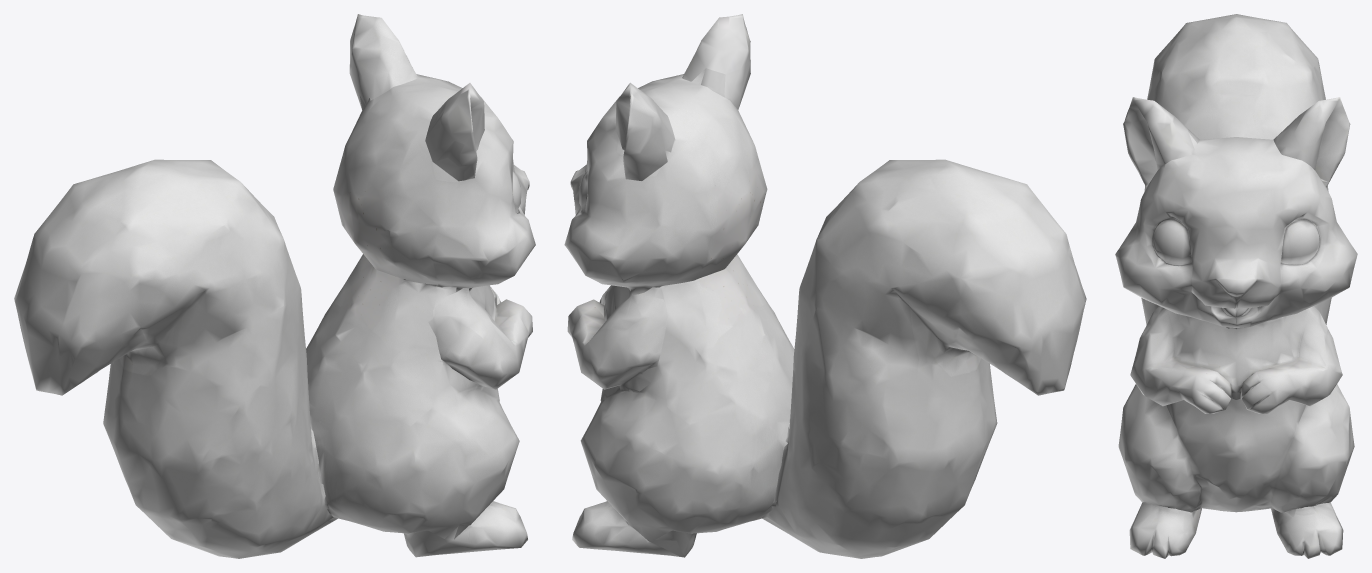
Rendered from statue-Twitter.glb.
3 renders of one model, left to right at view 1: azimuth 30°, elevation 25°; view 2: azimuth 150°, elevation 25°; view 3: azimuth 270°, elevation 25°, orthographic. The views are drawn at different scales.
Visible parts, largest first — view 1: tripo_part_3, tripo_part_5, tripo_part_2, tripo_part_4, tripo_part_0, tripo_part_7, tripo_part_1; view 2: tripo_part_3, tripo_part_5, tripo_part_2, tripo_part_4, tripo_part_7, tripo_part_0, tripo_part_6; view 3: tripo_part_2, tripo_part_5, tripo_part_3, tripo_part_4, tripo_part_7, tripo_part_0, tripo_part_1, tripo_part_6.
Boxes of the visible parts, box(x1,y1,x2,y2) form: tripo_part_3: box(14, 159, 335, 558); tripo_part_5: box(306, 254, 519, 539); tripo_part_2: box(333, 74, 535, 292); tripo_part_4: box(428, 285, 532, 389); tripo_part_0: box(425, 83, 484, 181); tripo_part_7: box(349, 14, 418, 108); tripo_part_1: box(404, 501, 527, 557); tripo_part_3: box(760, 159, 1086, 558); tripo_part_5: box(580, 254, 794, 557); tripo_part_2: box(564, 68, 767, 294); tripo_part_4: box(567, 285, 667, 392); tripo_part_7: box(615, 82, 675, 180); tripo_part_0: box(682, 14, 750, 109); tripo_part_6: box(572, 501, 696, 557); tripo_part_2: box(1115, 132, 1357, 328); tripo_part_5: box(1118, 384, 1354, 512); tripo_part_3: box(1141, 14, 1331, 324); tripo_part_4: box(1130, 306, 1342, 413); tripo_part_7: box(1273, 97, 1350, 187); tripo_part_0: box(1123, 97, 1199, 186); tripo_part_1: box(1129, 502, 1201, 558); tripo_part_6: box(1271, 502, 1343, 558).
Size of the model in its own units: 1 by 0.8969 by 0.4539.
Materials: 8 (8 with a texture image).
